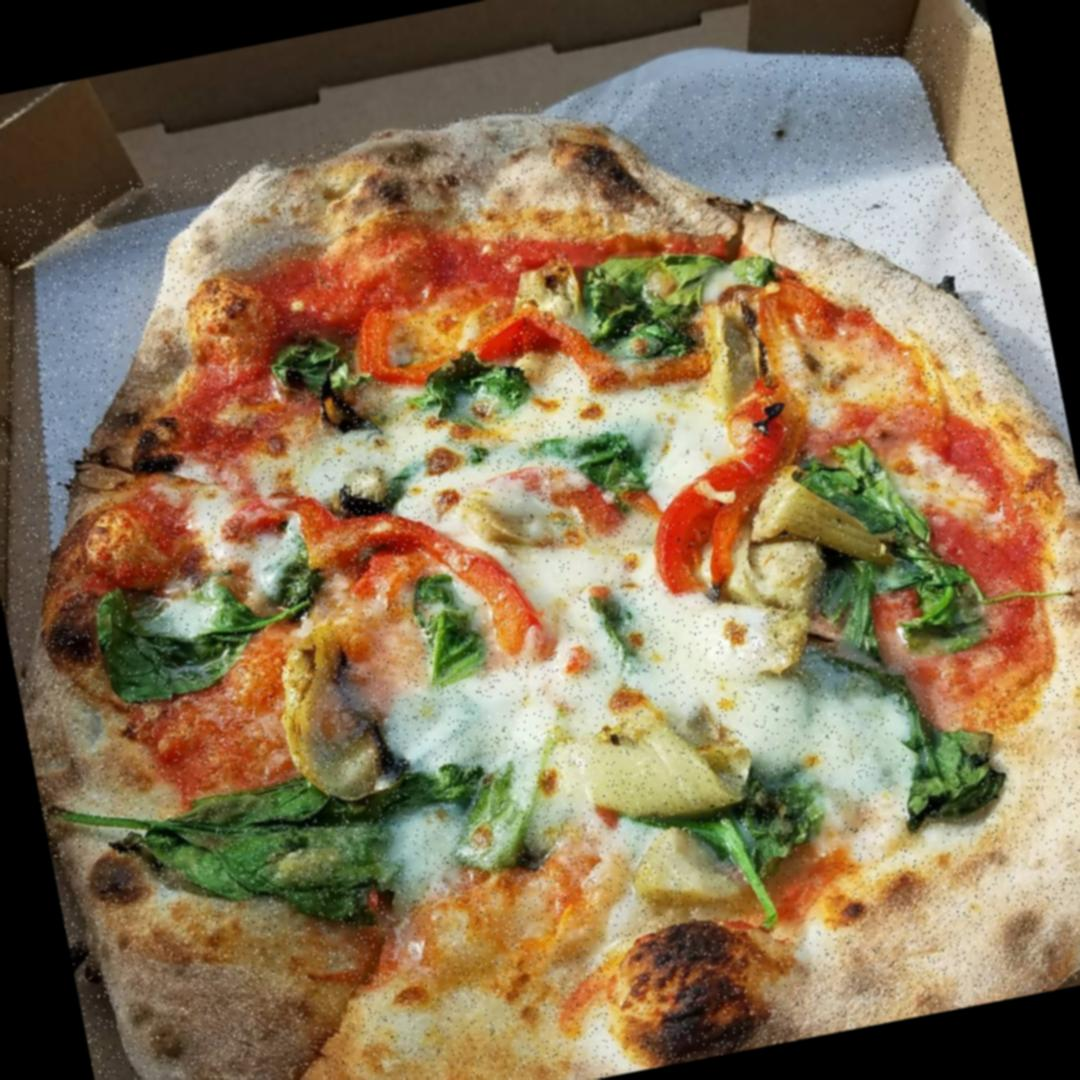Basil: (70, 742, 412, 970), (807, 424, 1002, 673), (567, 207, 803, 374), (844, 636, 1018, 850), (88, 554, 332, 704), (669, 785, 856, 953), (428, 747, 553, 906), (530, 402, 666, 520), (416, 336, 548, 455), (400, 557, 504, 703), (262, 326, 356, 404)
Peppers: (625, 382, 818, 612), (339, 266, 567, 397), (425, 500, 571, 672), (278, 468, 467, 580), (545, 307, 720, 417)
Pizza: (0, 15, 1080, 1080)
